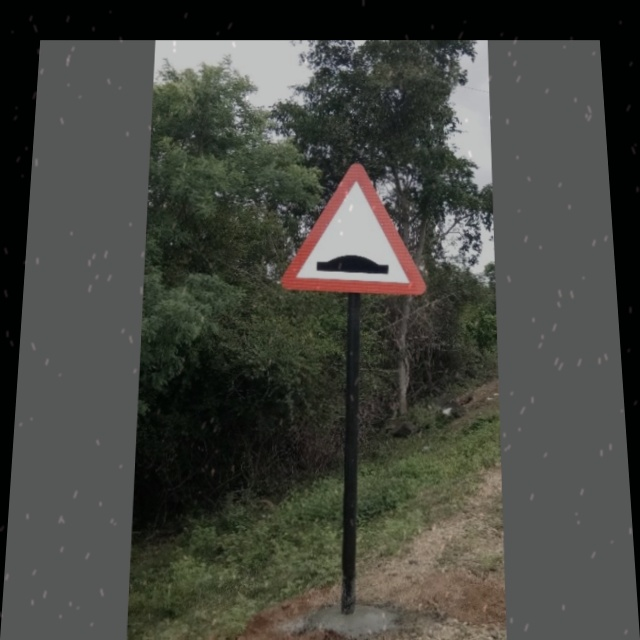Dangerous_Dip: (285, 161, 428, 300)
